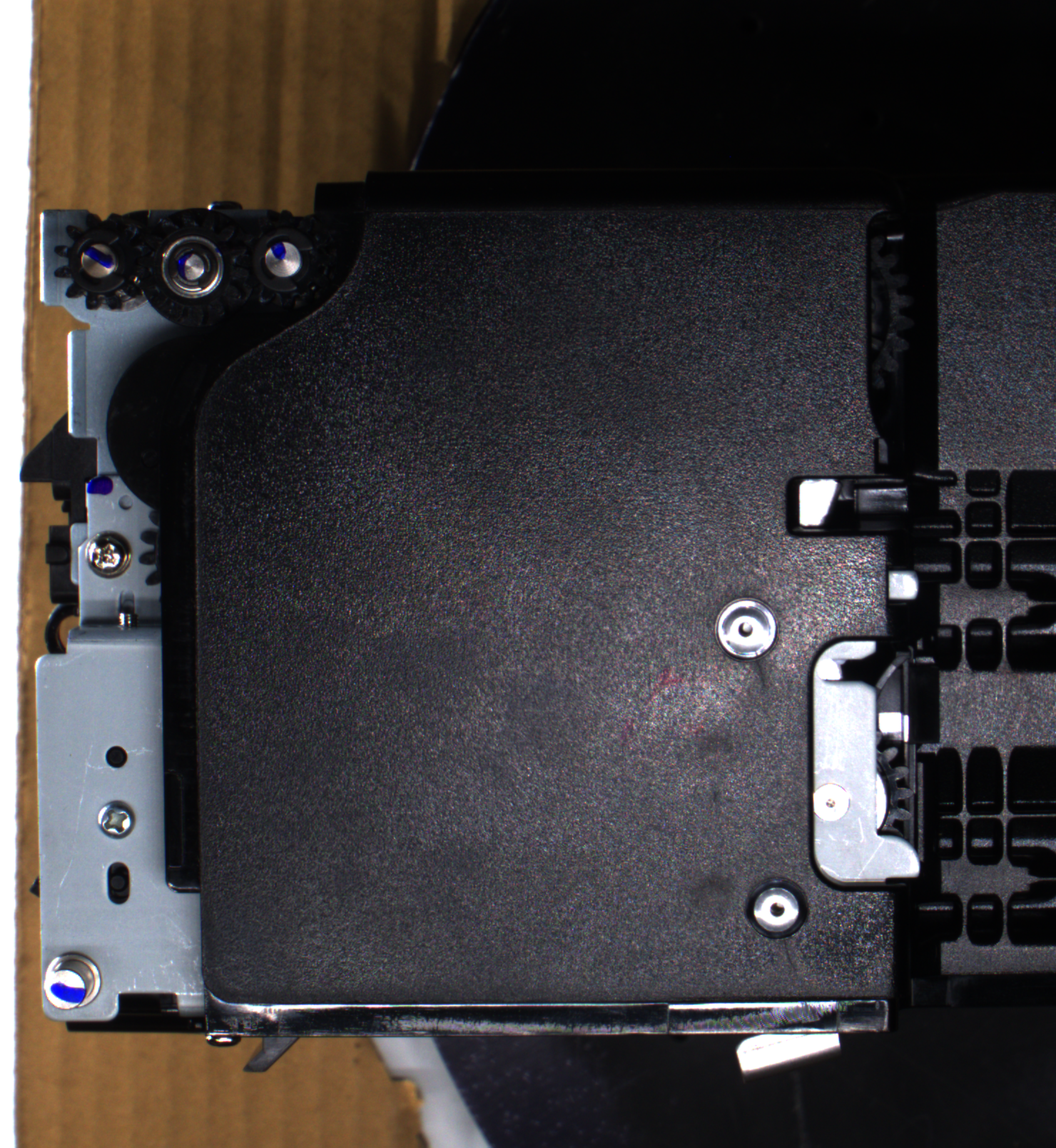centre_pin_presence: (728, 1016, 849, 1082)
centre_plate_presence: (801, 630, 932, 895)
centre_screw_presence: (710, 592, 783, 669), (740, 872, 812, 944)
gear1_presence: (51, 210, 153, 314)
gear2_presence: (138, 207, 249, 328)
gear3_presence: (233, 209, 334, 312)
side_screw_presence: (82, 527, 134, 580), (94, 798, 138, 840)
slanting_pin_presence: (38, 948, 109, 1017)
